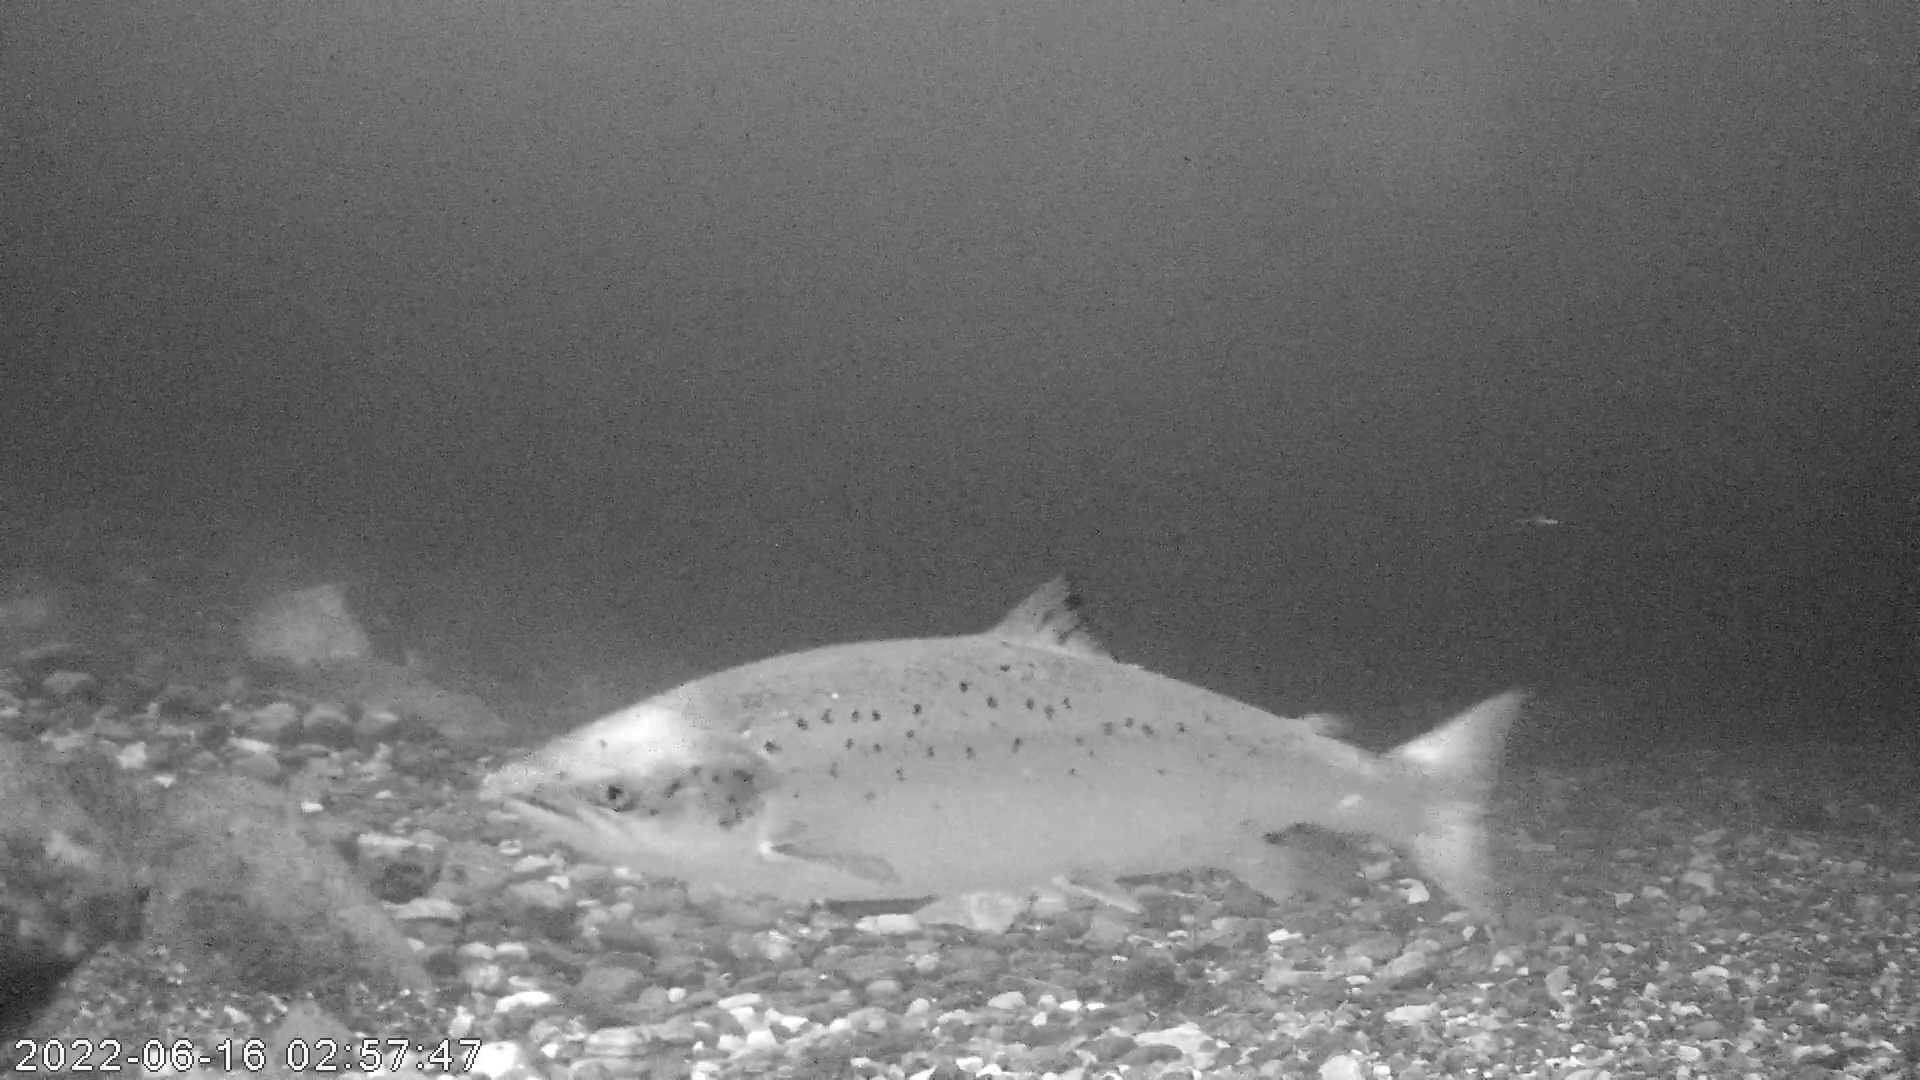salmon: (488, 568, 1527, 931)
